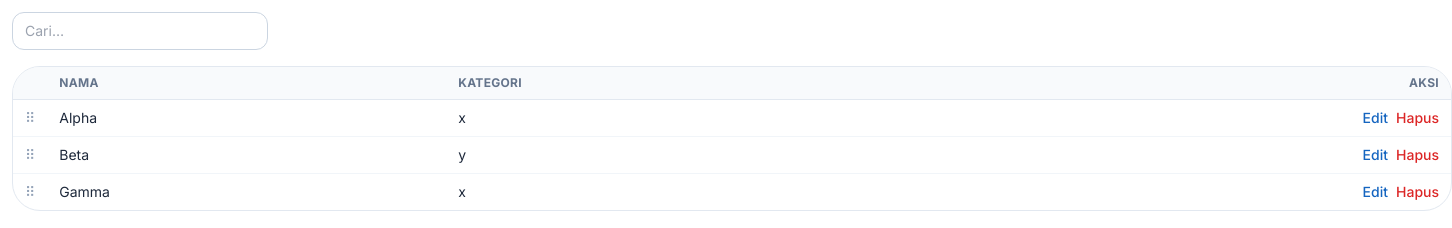
Test: EntityTable › shows empty state when no rows match
This screenshot has width=1452, height=228.
Type "zzz" into the search field with placeholder "Cari…" at (140, 31), box [12,12,268,50]
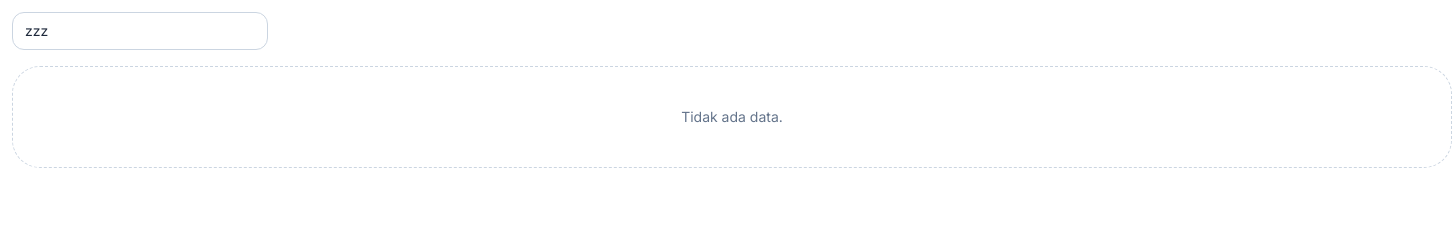
Check: the text "Tidak ada data." is shown, box [12,66,1451,168]
